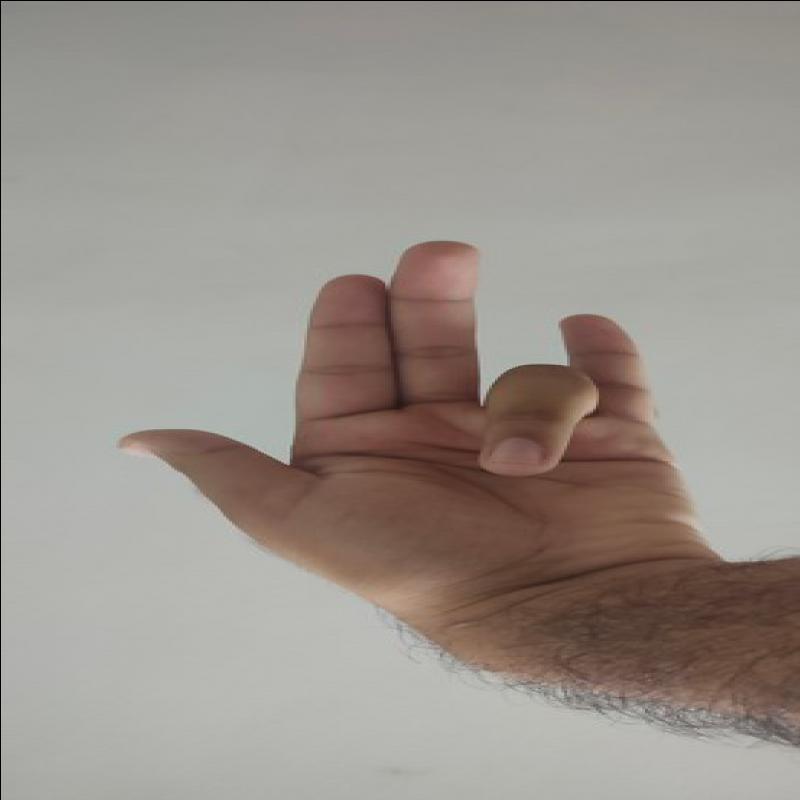Pathaaka: (99, 220, 705, 581)
